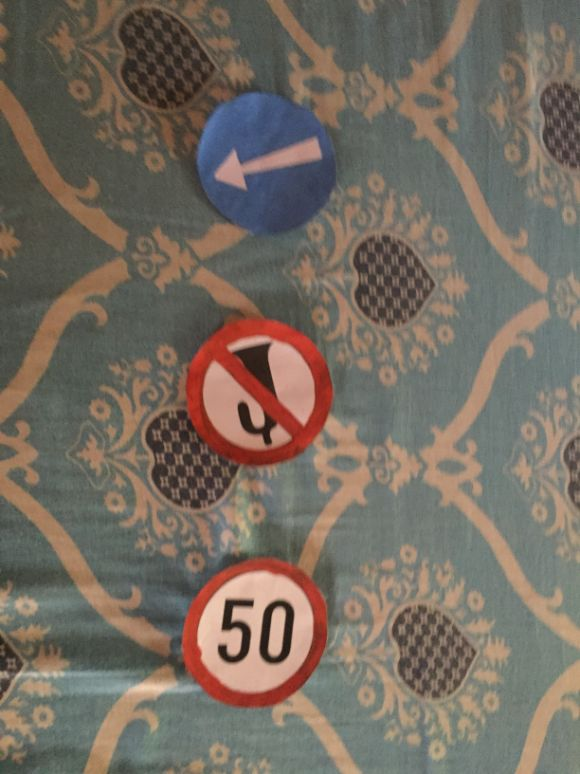keep-left: (196, 92, 335, 236)
no-horn: (185, 319, 336, 464)
speed-50: (182, 558, 326, 705)
